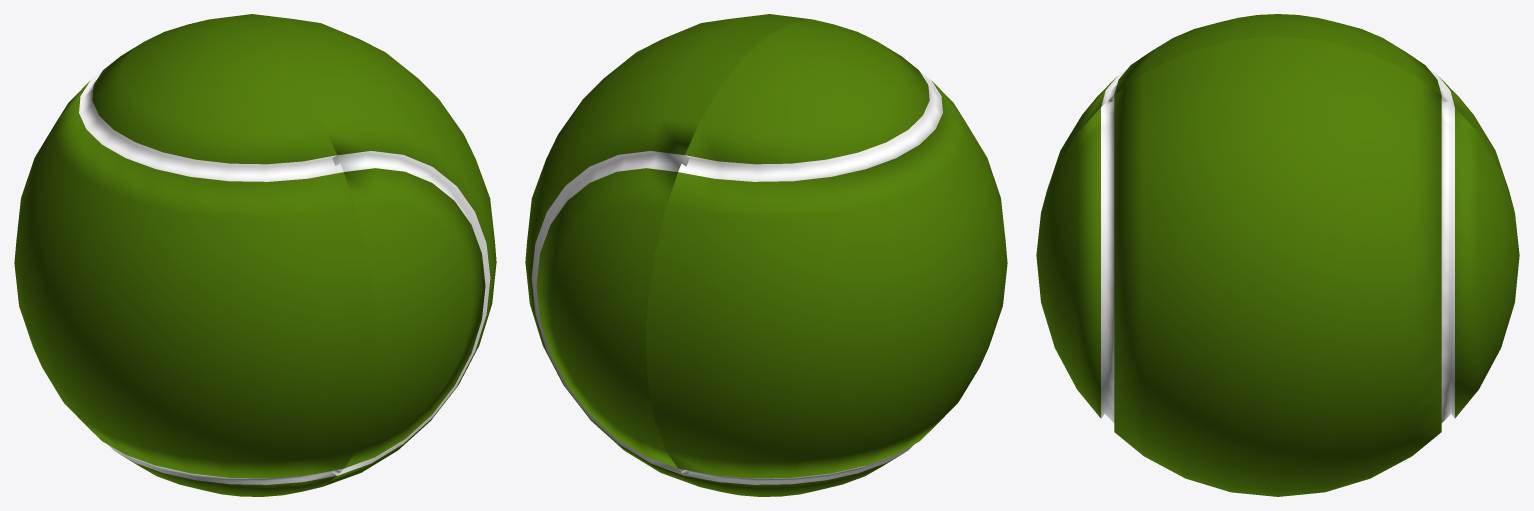
Rendered from tenistopukırılmayan.fbx.
The picture shows the model from 3 angles, left to right: view 1: azimuth 30°, elevation 25°; view 2: azimuth 150°, elevation 25°; view 3: azimuth 270°, elevation 25°; orthographic projection.
Visible parts, largest first — view 1: Sphere.001; view 2: Sphere.001; view 3: Sphere.001.
Part boxes in pixels (<box>): Sphere.001: <box>14,14,496,496</box>; Sphere.001: <box>525,14,1007,496</box>; Sphere.001: <box>1036,14,1519,496</box>.
Size of the model in its own units: 40 by 40 by 40.
